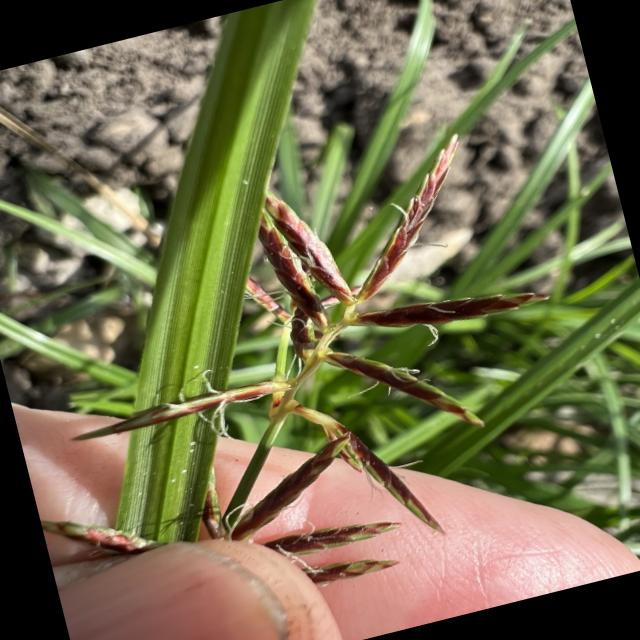cyperus: (0, 101, 605, 640)
